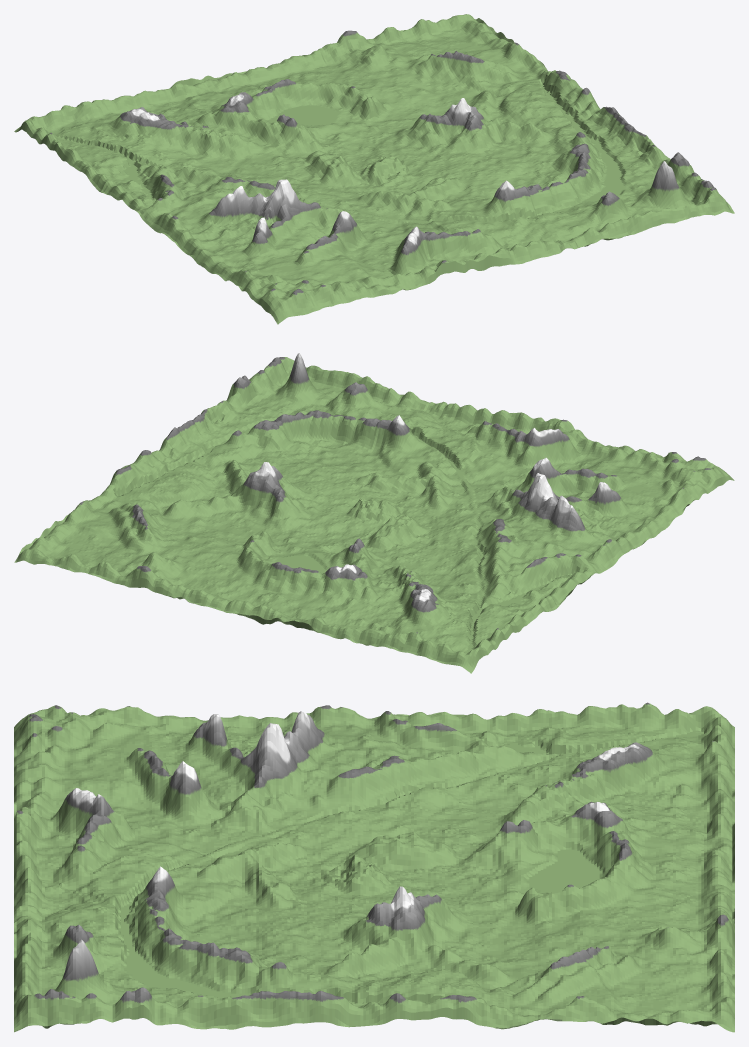
File: Terra.fbx
3 renders of one model, top to bottom at view 1: azimuth 30°, elevation 25°; view 2: azimuth 150°, elevation 25°; view 3: azimuth 270°, elevation 25°, orthographic. The views are drawn at different scales.
Visible parts, largest first — view 1: Terra ambient; view 2: Terra ambient; view 3: Terra ambient.
Boxes of the visible parts, <box> form: Terra ambient: <box>14,14,734,324</box>; Terra ambient: <box>14,353,734,673</box>; Terra ambient: <box>14,702,734,1032</box>.
Size of the model in its own units: 3984 by 444 by 3984.
